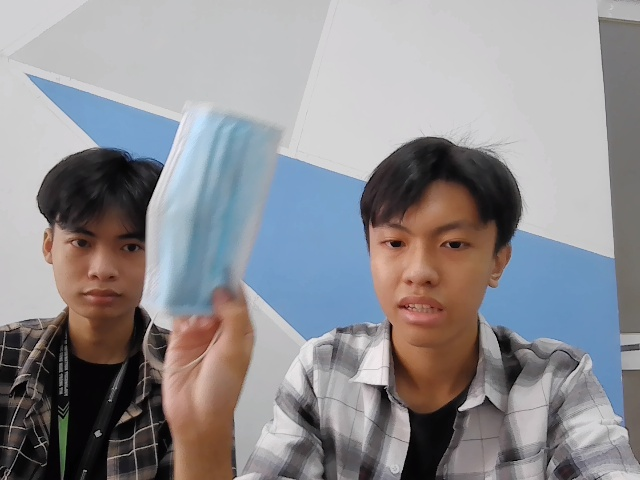human: (348, 137, 517, 338), (37, 144, 164, 317)
mask: (143, 100, 289, 331)
